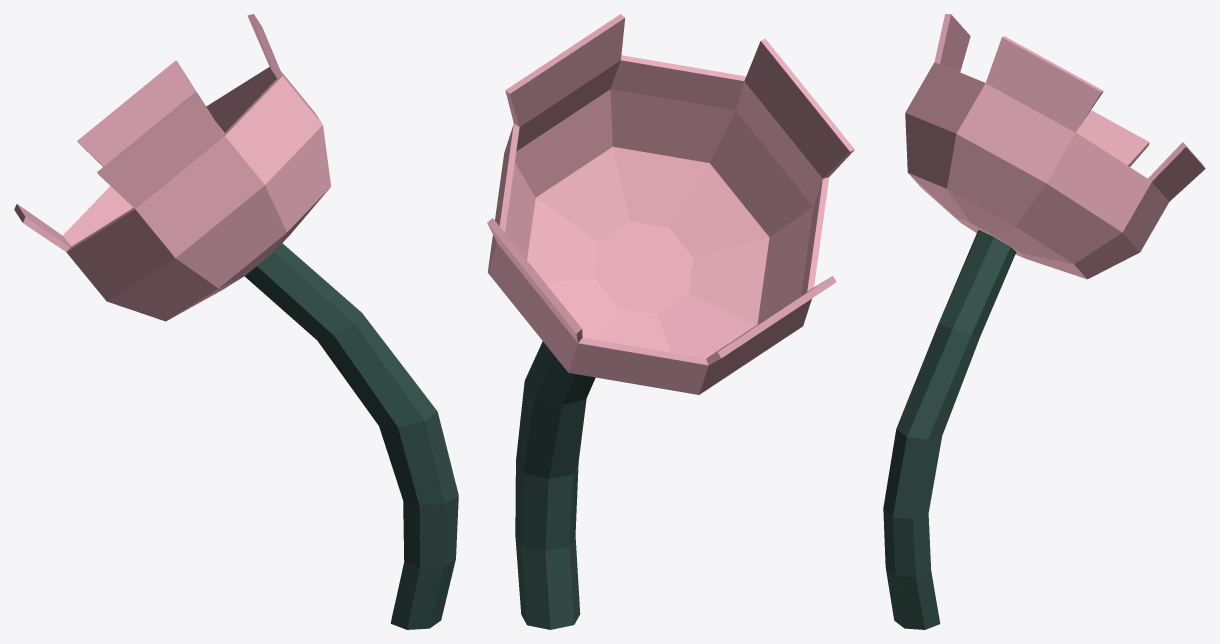
Rendered from Pot_2b_plantsingle.fbx.
The picture shows the model from 3 angles, left to right: view 1: azimuth 30°, elevation 25°; view 2: azimuth 150°, elevation 25°; view 3: azimuth 270°, elevation 25°; orthographic projection. The views are drawn at different scales.
Visible parts, largest first — view 1: Circle.001; view 2: Circle.001; view 3: Circle.001.
Part boxes in pixels (x1,y1,x2,y2): Circle.001: [14, 14, 458, 629]; Circle.001: [487, 14, 854, 629]; Circle.001: [883, 14, 1205, 629].
Bounding box in the file's own units: 49.24 × 77.84 × 42.48.
